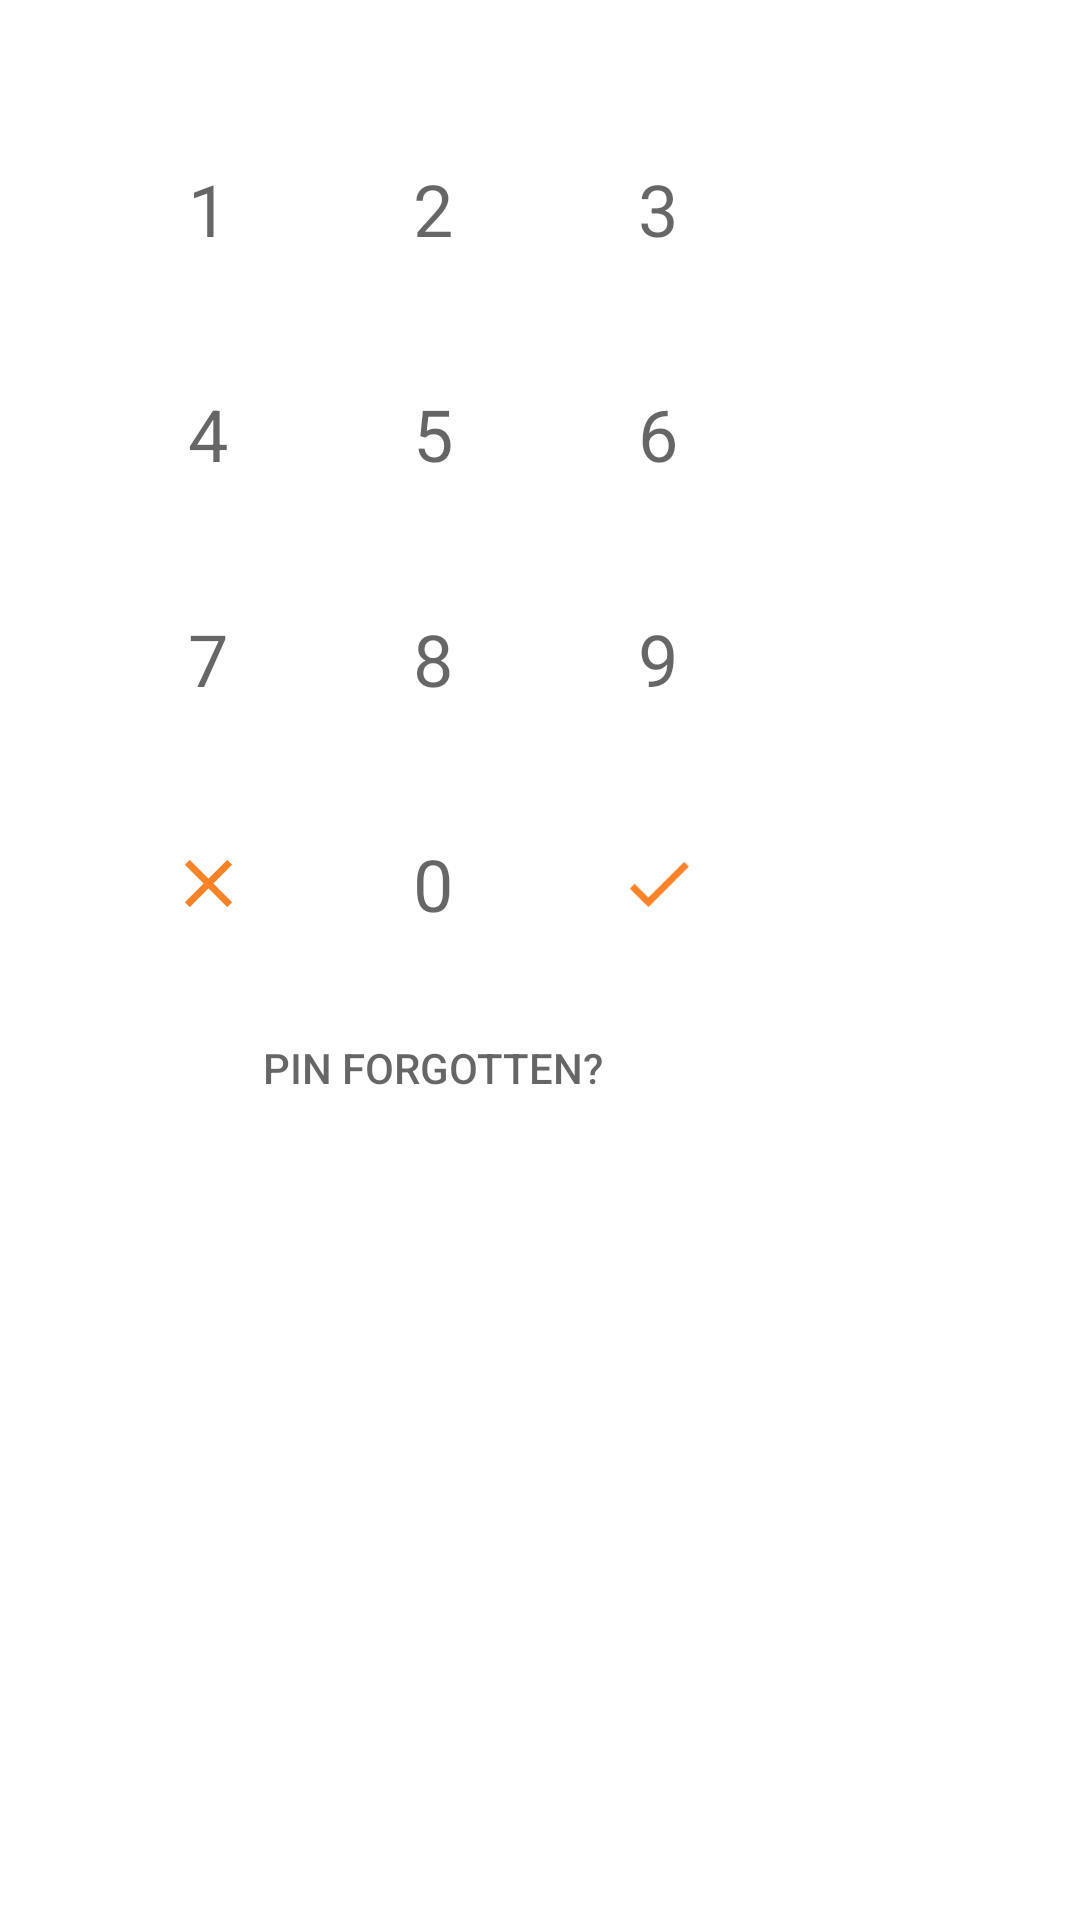

Icons on this 1080x1920 Android screen, each with the point to tap as point (x, y):
check: point (659, 884)
close: point (208, 883)
